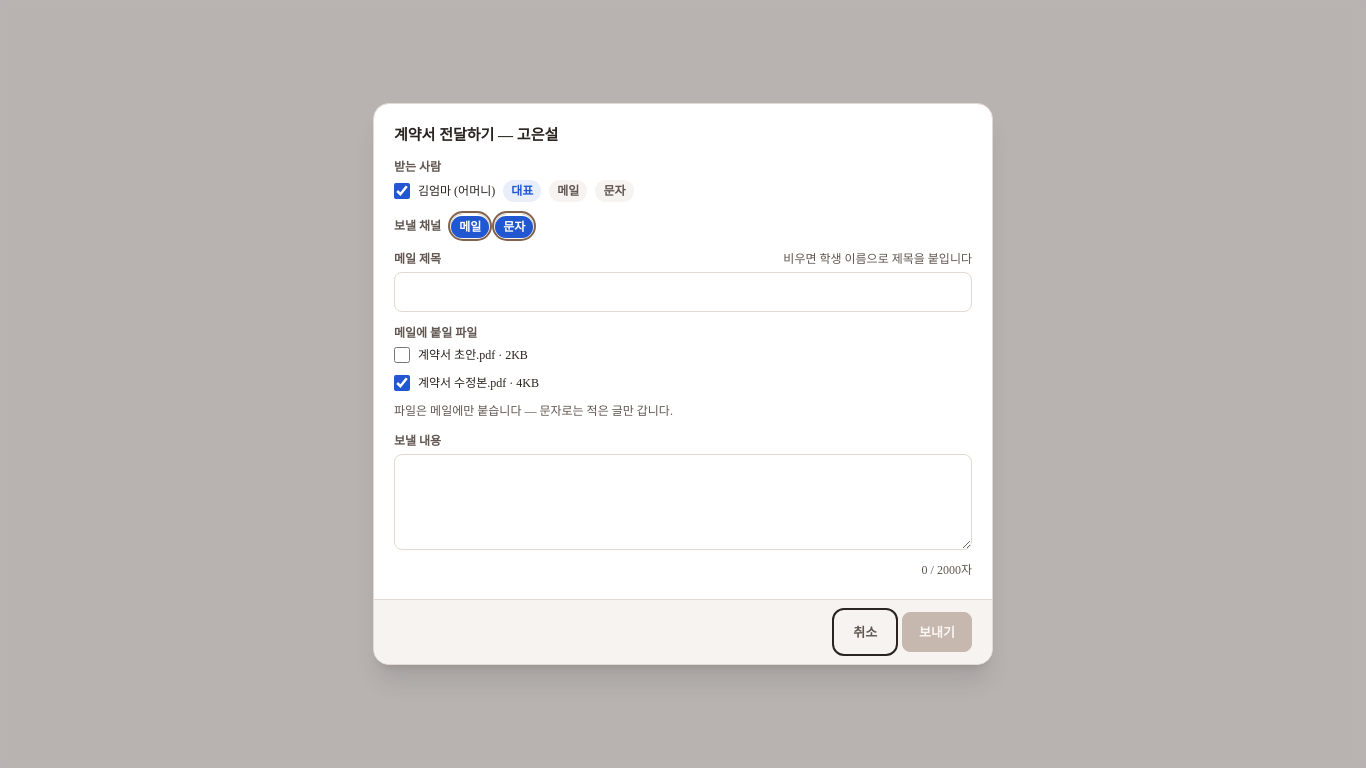
Test: 고른 계약서 id 만 consFileIds 로 보낸다 — 본문은 사람이 적고, 처음 고른 것은 여는 쪽이 정한 판이다 (W11)
Expected: the checkbox labelled "계약서 초안.pdf · 2KB" is not checked, [394, 347, 410, 363]
Expected: the checkbox labelled "계약서 수정본.pdf · 4KB" is checked, [394, 375, 410, 391]
Type "계약서를 보내 드립니다. 확인 부탁드립니다." into the text box labelled "보낼 내용" at (683, 502), box [394, 454, 972, 550]
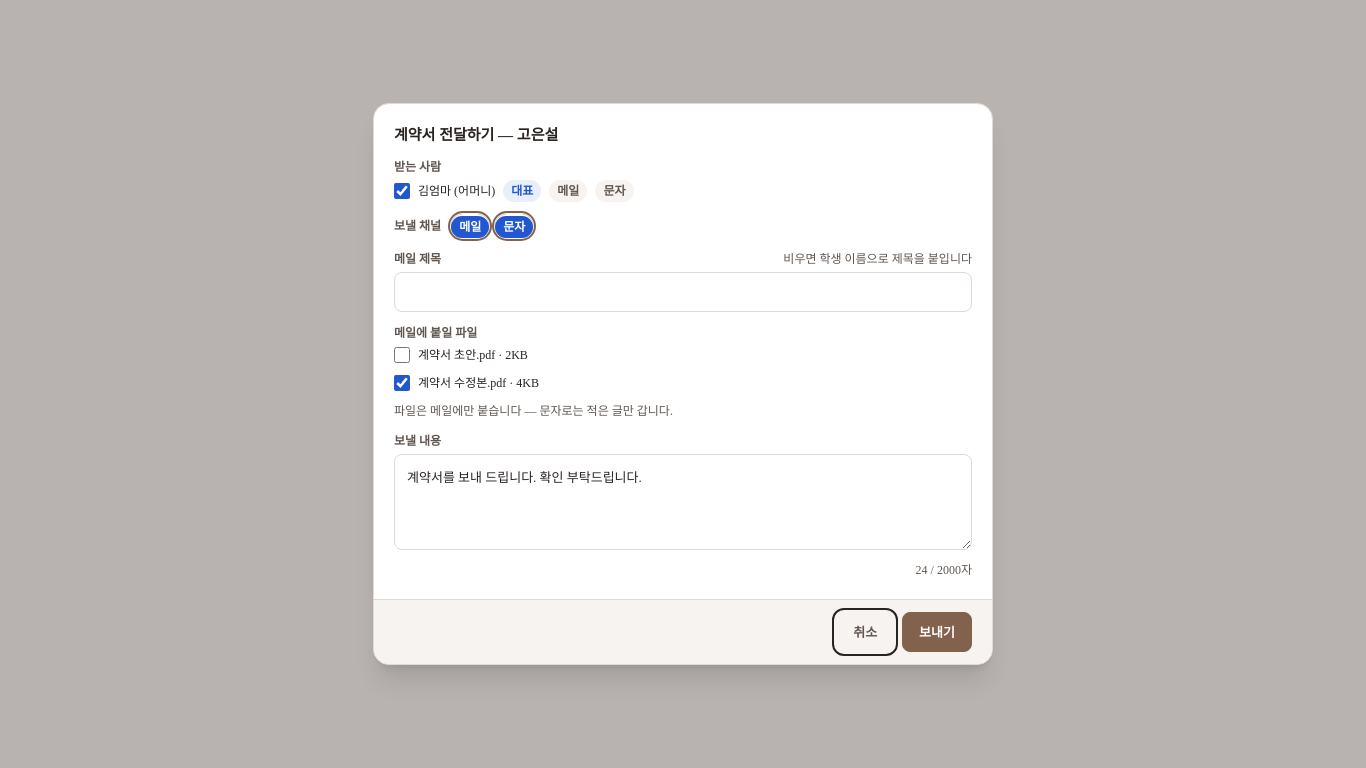
Result: the button "보내기" is enabled
Click the button "보내기" at (937, 632), box [902, 612, 972, 652]
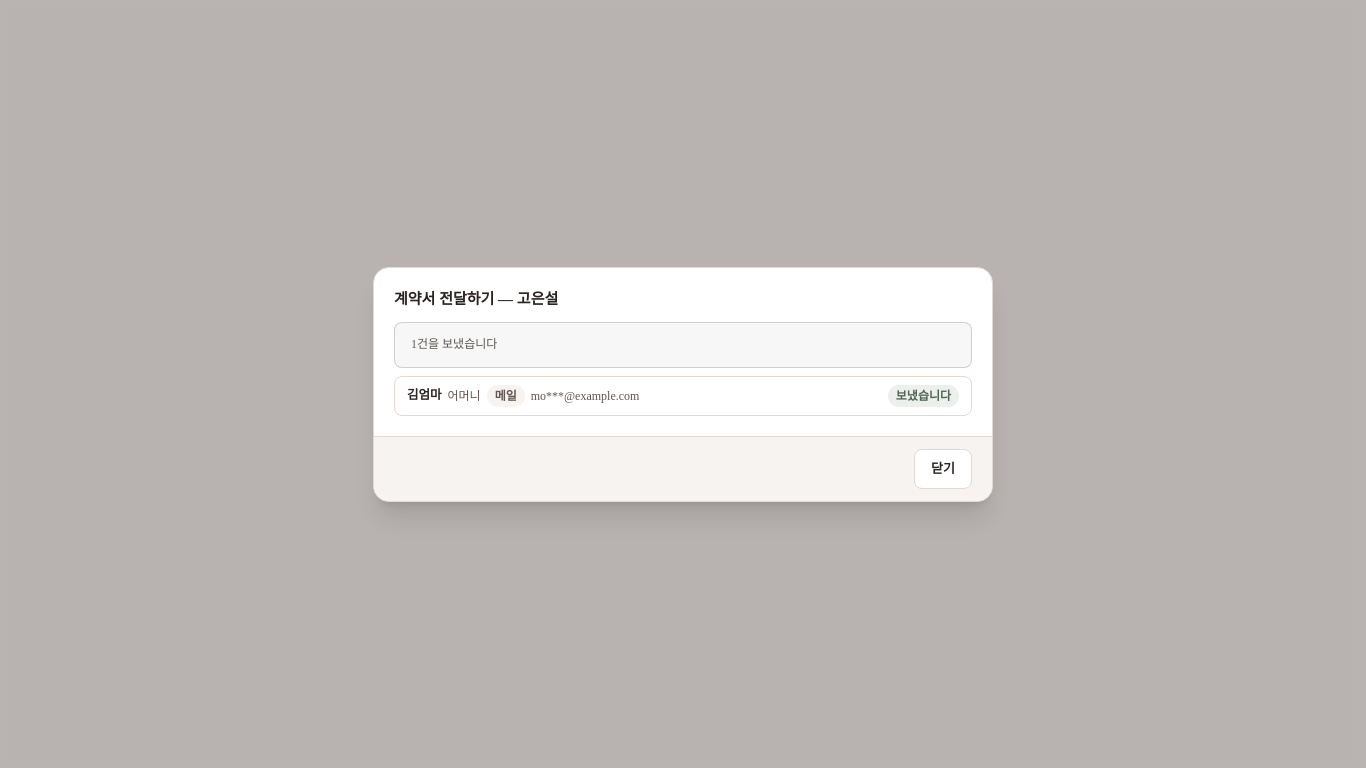
Result: the element named "보낸 결과" is shown at [394, 322, 972, 416]
